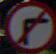Don't turn right: (8, 7, 47, 44)
